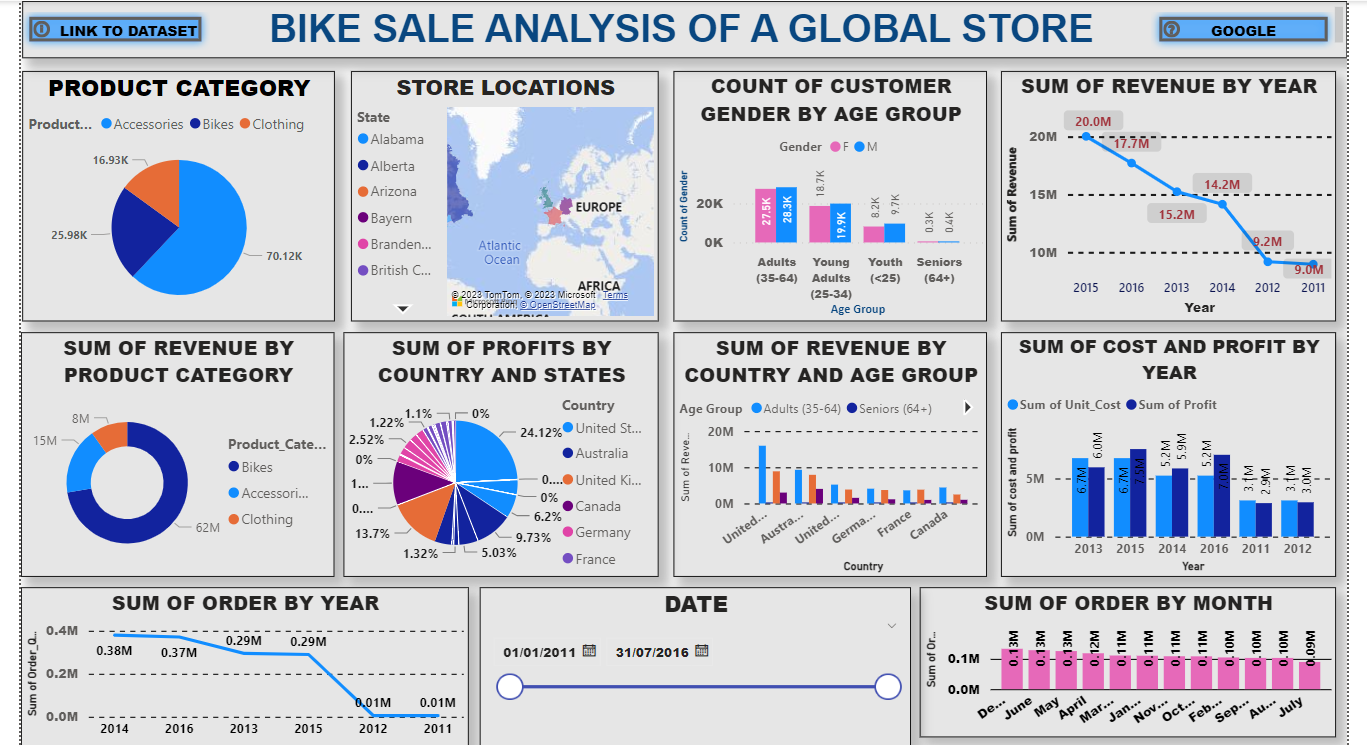

The dashboard page shown, as its layout file describes it:
{"tool":"powerbi","page":{"name":"Page 1","canvas":[1280,720],"ordinal":0},"visuals":[{"type":"pieChart","title":"PRODUCT CATEGORY ","fields":{"Category":["bike sales europe.Product_Category"],"Y":["CountNonNull(bike sales europe.Product_Category)"]},"box":[1.2,67.5,301.5,241.2],"z":0},{"type":"filledMap","title":"STORE LOCATIONS","fields":{"Category":["bike sales europe.Country"],"Series":["bike sales europe.State"]},"box":[318.4,67.5,296.7,241.2],"z":1000},{"type":"clusteredColumnChart","title":"COUNT OF CUSTOMER GENDER BY AGE GROUP ","fields":{"Category":["bike sales europe.Age_Group"],"Y":["CountNonNull(bike sales europe.Customer_Gender)"],"Series":["bike sales europe.Customer_Gender"]},"box":[629.5,67.5,302.7,241.2],"z":2000},{"type":"lineChart","title":"SUM OF REVENUE BY YEAR","fields":{"Category":["bike sales europe.Year"],"Y":["Sum(bike sales europe.Revenue)"]},"box":[945.5,67.5,323.2,241.2],"z":3000},{"type":"donutChart","title":"SUM OF REVENUE BY PRODUCT CATEGORY","fields":{"Y":["Sum(bike sales europe.Revenue)"],"Category":["bike sales europe.Product_Category"]},"box":[0,319.6,302.7,236.4],"z":4000},{"type":"clusteredColumnChart","title":"SUM OF REVENUE BY COUNTRY AND AGE GROUP","fields":{"Category":["bike sales europe.Country"],"Y":["Sum(bike sales europe.Revenue)"],"Series":["bike sales europe.Age_Group"]},"box":[629.5,319.6,302.7,236.4],"z":5000},{"type":"pieChart","title":"SUM OF PROFITS BY COUNTRY AND STATES","fields":{"Category":["bike sales europe.Country"],"Y":["Sum(bike sales europe.Profit)"],"Series":["bike sales europe.State"]},"box":[311.2,319.6,303.9,236.4],"z":6000},{"type":"textbox","box":[1.2,0,1278.4,55.5],"z":7000},{"type":"clusteredColumnChart","title":"SUM OF COST AND PROFIT BY YEAR","fields":{"Category":["bike sales europe.Year"],"Y":["Sum(bike sales europe.Unit_Cost)","Sum(bike sales europe.Profit)"]},"box":[945.5,319.6,323.2,236.4],"z":8000},{"type":"actionButton","box":[0,7.2,182.1,39.8],"z":9000},{"type":"actionButton","box":[1090.3,7.2,178.5,39.8],"z":10000},{"type":"lineChart","title":"SUM OF ORDER BY YEAR","fields":{"Category":["bike sales europe.Year"],"Y":["Sum(bike sales europe.Order_Quantity)"]},"box":[0,565.6,431.8,154.4],"z":11000},{"type":"clusteredColumnChart","title":"SUM OF ORDER BY MONTH","fields":{"Category":["bike sales europe.Month"],"Y":["Sum(bike sales europe.Order_Quantity)"]},"box":[867.1,565.6,401.6,144.7],"z":12000},{"type":"slicer","title":"DATE","fields":{"Values":["bike sales europe.Date"]},"box":[442.6,565.6,416.1,154.4],"z":12001}]}

Visuals, with their boxes on the page's 1280x720 design canvas (x1, y1, x2, y2). These are canvas units, not pixel positions in the 1367x745 screenshot, which may show the page scaled, cropped or inside an application window:
"PRODUCT CATEGORY " pieChart: (1,68,303,309)
"STORE LOCATIONS" filledMap: (318,68,615,309)
"COUNT OF CUSTOMER GENDER BY AGE GROUP " clusteredColumnChart: (630,68,932,309)
"SUM OF REVENUE BY YEAR" lineChart: (946,68,1269,309)
"SUM OF REVENUE BY PRODUCT CATEGORY" donutChart: (0,320,303,556)
"SUM OF REVENUE BY COUNTRY AND AGE GROUP" clusteredColumnChart: (630,320,932,556)
"SUM OF PROFITS BY COUNTRY AND STATES" pieChart: (311,320,615,556)
textbox: (1,0,1280,56)
"SUM OF COST AND PROFIT BY YEAR" clusteredColumnChart: (946,320,1269,556)
actionButton: (0,7,182,47)
actionButton: (1090,7,1269,47)
"SUM OF ORDER BY YEAR" lineChart: (0,566,432,720)
"SUM OF ORDER BY MONTH" clusteredColumnChart: (867,566,1269,710)
"DATE" slicer: (443,566,859,720)
